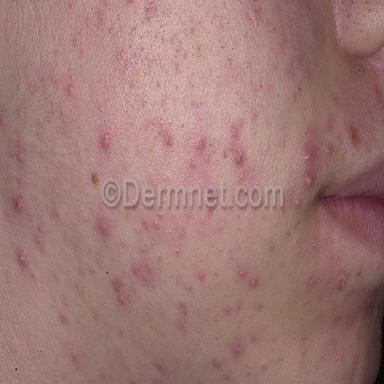acne: (131, 261, 153, 286), (247, 2, 261, 27), (97, 216, 111, 237), (331, 273, 347, 290), (145, 0, 157, 21), (231, 337, 244, 356), (348, 124, 360, 144), (155, 356, 167, 375), (305, 144, 317, 162), (233, 148, 245, 165), (100, 132, 110, 151), (50, 203, 61, 220), (17, 140, 25, 161), (230, 124, 239, 141), (13, 194, 23, 209), (196, 136, 206, 151), (164, 130, 173, 146), (97, 7, 105, 25), (19, 248, 26, 268), (113, 278, 123, 291), (179, 317, 187, 333), (179, 301, 187, 315), (324, 143, 334, 154), (59, 312, 68, 324), (378, 96, 384, 113), (212, 357, 221, 368), (249, 276, 258, 287), (67, 81, 74, 95), (117, 293, 125, 304), (305, 176, 313, 186), (142, 219, 149, 230), (190, 157, 197, 168), (239, 267, 246, 277), (224, 305, 232, 313), (154, 220, 160, 230), (198, 272, 205, 280), (261, 363, 268, 371), (157, 211, 163, 220), (37, 224, 43, 233), (185, 284, 191, 292), (311, 239, 317, 247), (356, 269, 361, 278), (295, 200, 301, 207), (305, 71, 309, 77)
